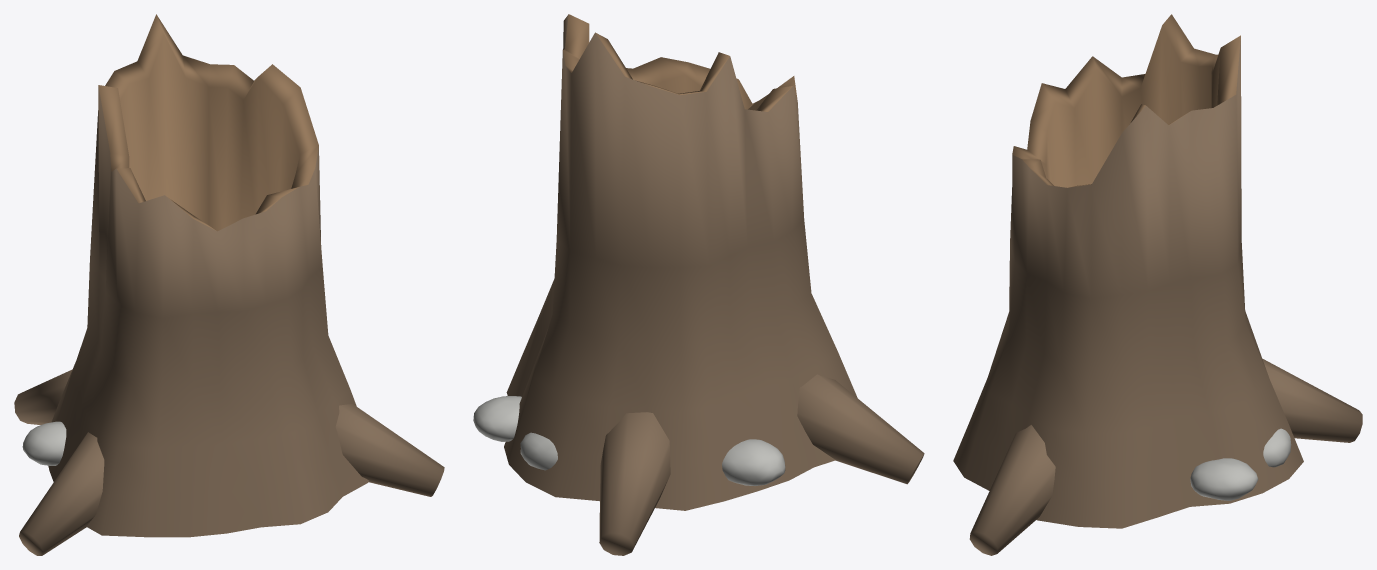
Rendered from rh_key.glb.
3 views of the same model, side by side, from view 1: azimuth 30°, elevation 25°; view 2: azimuth 150°, elevation 25°; view 3: azimuth 270°, elevation 25° (orthographic). The views are drawn at different scales.
Visible parts, largest first — view 1: HollowStump, Cairn; view 2: HollowStump, Cairn; view 3: HollowStump, Cairn.
Part boxes in pixels (x1=…): HollowStump: x1=14, y1=14, x2=444, y2=555; Cairn: x1=22, y1=421, x2=66, y2=465; HollowStump: x1=504, y1=14, x2=924, y2=555; Cairn: x1=473, y1=396, x2=785, y2=485; HollowStump: x1=953, y1=14, x2=1362, y2=555; Cairn: x1=1190, y1=428, x2=1291, y2=500.
Size of the model in its own units: 1.35 by 1.44 by 1.21.
